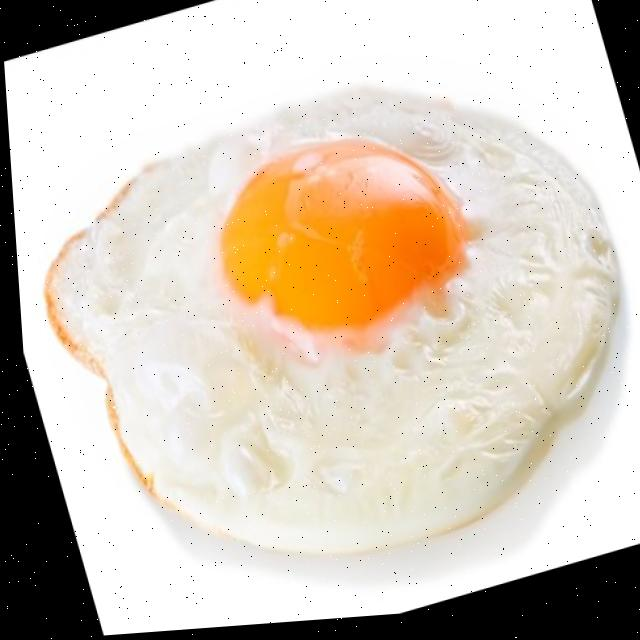Egg: (41, 95, 613, 557)
